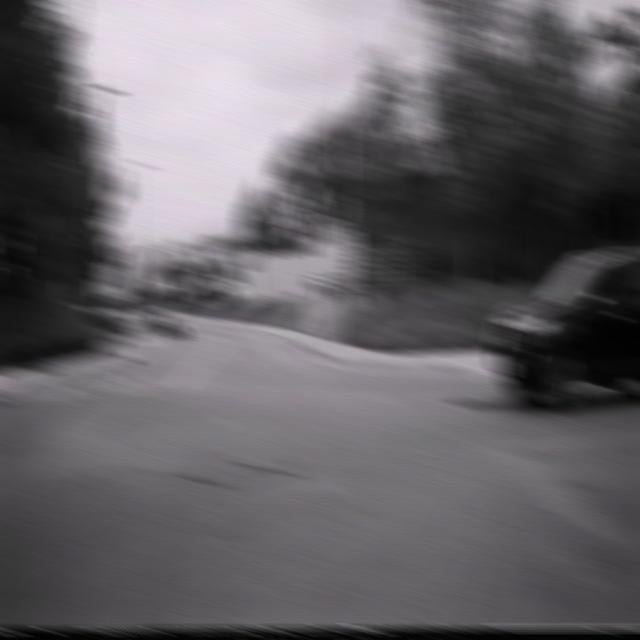speedLimit25: (336, 224, 358, 258)
